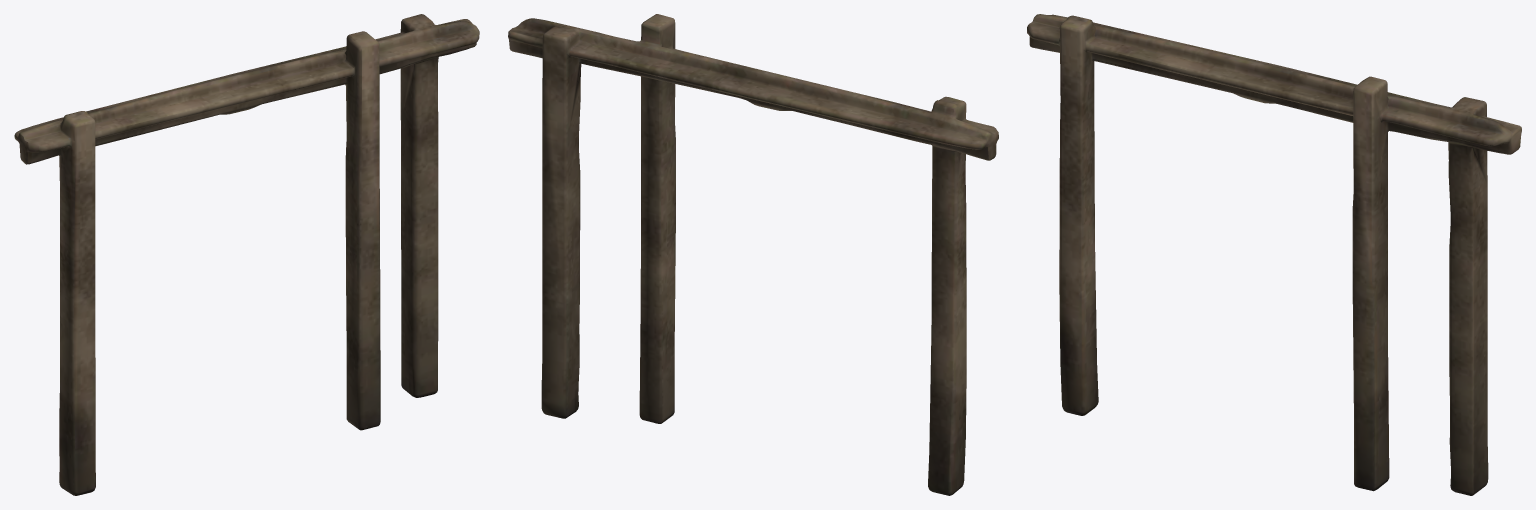
The model's file is simple-wood-torii-frame-v001.glb.
The picture shows the model from 3 angles, left to right: view 1: azimuth 30°, elevation 25°; view 2: azimuth 150°, elevation 25°; view 3: azimuth 330°, elevation 25°; orthographic projection. The views are drawn at different scales.
Parts seen in each view (by area): view 1: simple-wood-torii-frame; view 2: simple-wood-torii-frame; view 3: simple-wood-torii-frame.
Part boxes in pixels (box(x1,y1,x2,y2)): simple-wood-torii-frame: box(14, 14, 479, 495); simple-wood-torii-frame: box(508, 14, 998, 495); simple-wood-torii-frame: box(1027, 14, 1521, 495).
Bounding box in the file's own units: 3.31 × 2.68 × 0.4291.
1 material, 1 textured.
